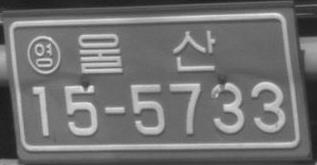-: (103, 104, 125, 116)
1: (25, 86, 59, 136)
3: (250, 80, 287, 133), (210, 81, 245, 134)
5: (62, 84, 100, 137), (130, 82, 165, 136)
7: (168, 81, 201, 135)
영: (26, 34, 62, 75)
울산_D: (78, 29, 215, 75)
